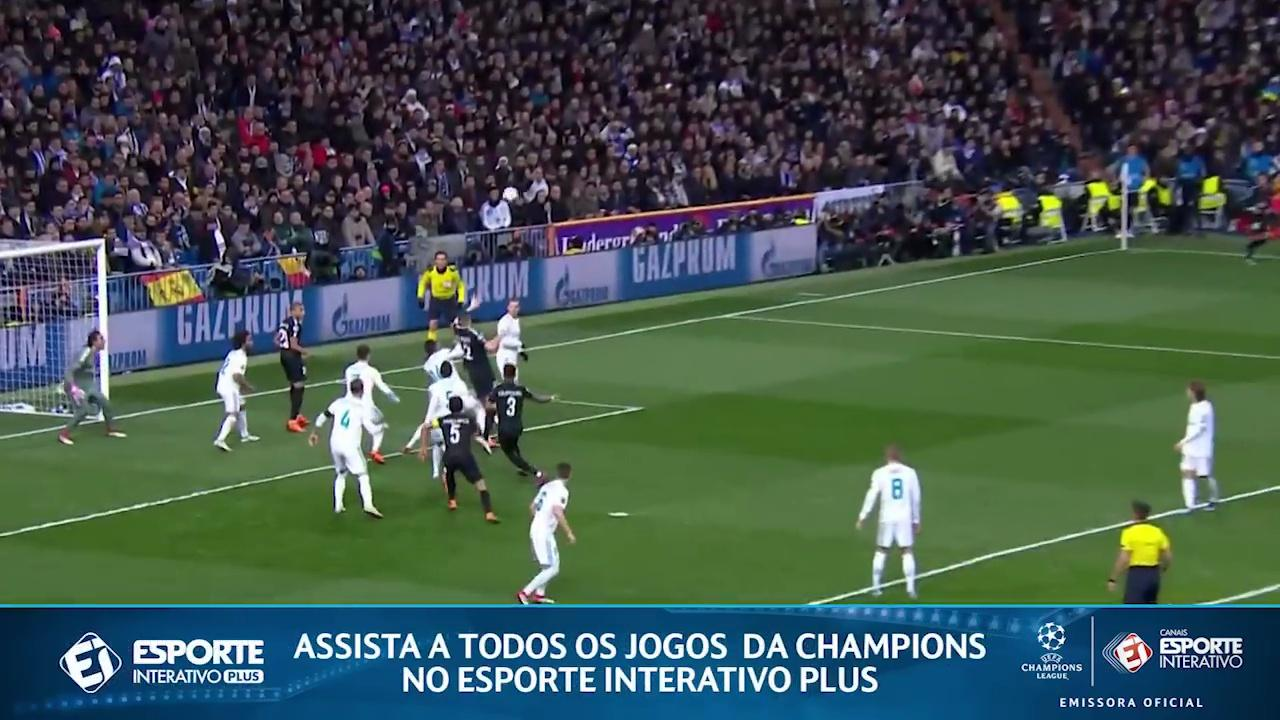player: (308, 379, 381, 518), (857, 445, 920, 598), (403, 362, 483, 478), (432, 396, 498, 523), (517, 462, 575, 604), (487, 364, 555, 478), (58, 330, 125, 444), (344, 344, 398, 462), (1175, 381, 1219, 510), (213, 329, 258, 451), (424, 345, 484, 427), (275, 301, 308, 431), (455, 312, 496, 398), (1244, 175, 1279, 263), (495, 299, 527, 376), (423, 339, 462, 392), (423, 340, 463, 384)
referee: (1108, 501, 1170, 603), (417, 252, 465, 341)
